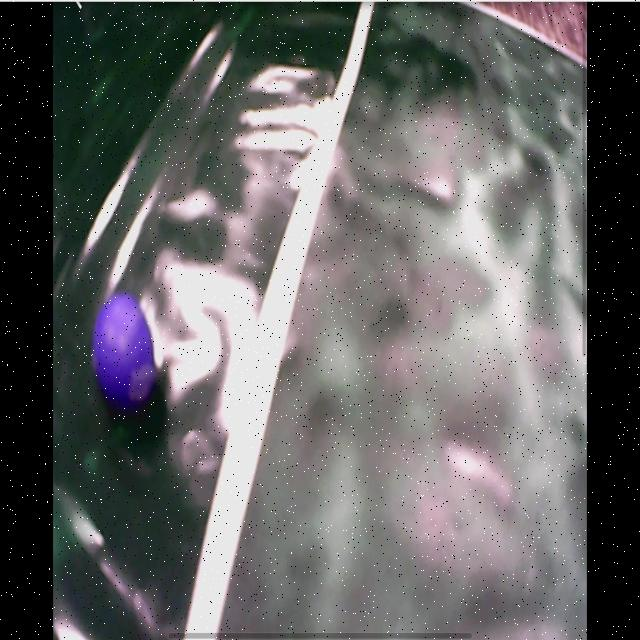ball: (86, 296, 157, 401)
